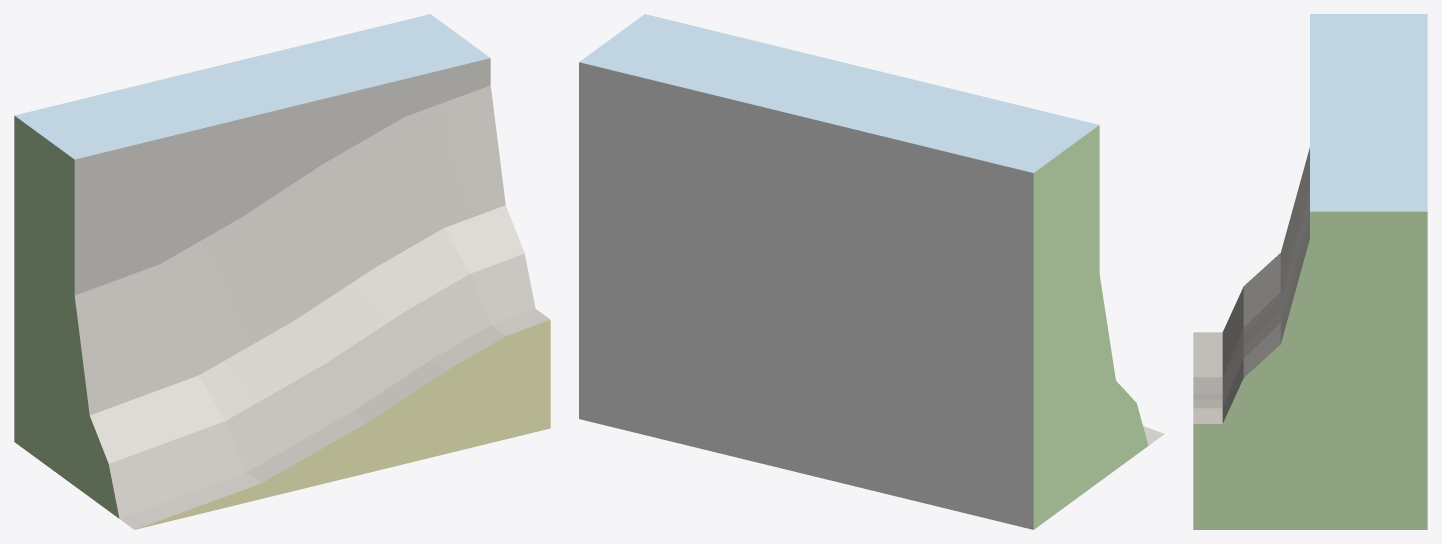
Rendered from Wall_Incline_2x4_Base.fbx.
3 renders of one model, left to right at view 1: azimuth 30°, elevation 25°; view 2: azimuth 150°, elevation 25°; view 3: azimuth 270°, elevation 25°, orthographic. The views are drawn at different scales.
Visible parts, largest first — view 1: Wall_Incline_2x4_Base; view 2: Wall_Incline_2x4_Base; view 3: Wall_Incline_2x4_Base.
Boxes of the visible parts, x1,y1,x2,y2 form: Wall_Incline_2x4_Base: [14, 14, 550, 529]; Wall_Incline_2x4_Base: [579, 14, 1164, 529]; Wall_Incline_2x4_Base: [1193, 14, 1427, 529].
Size of the model in its own units: 400 by 300 by 200.
